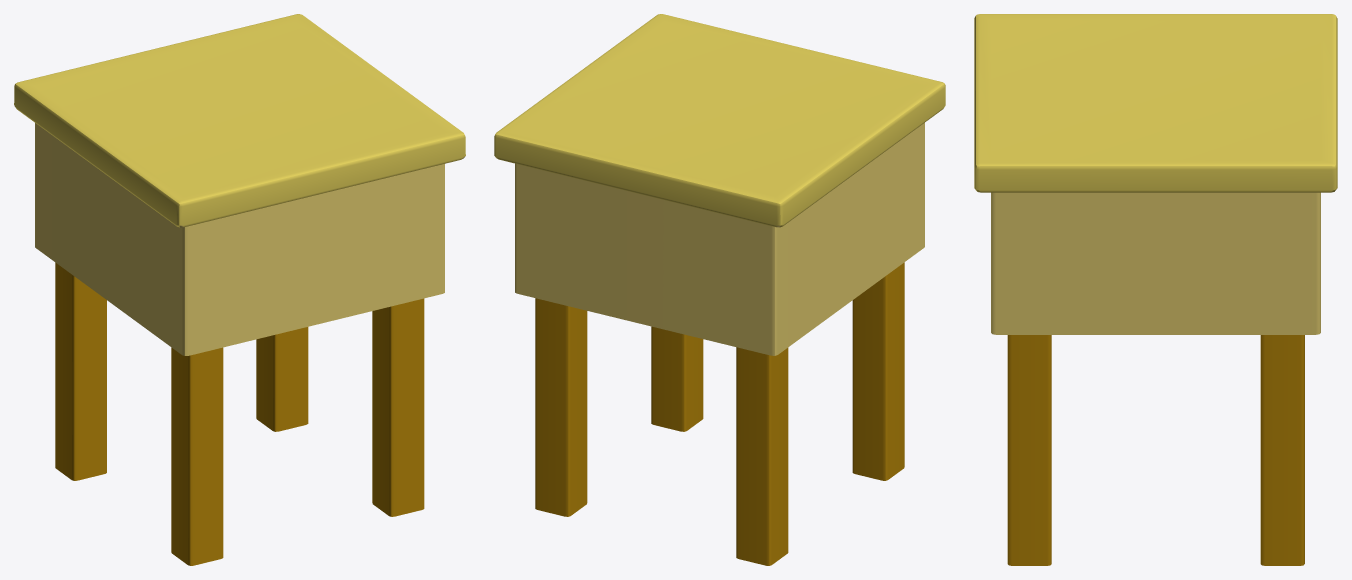
Rendered from 3dmodals16711897957237.fbx.
3 renders of one model, left to right at view 1: azimuth 30°, elevation 25°; view 2: azimuth 150°, elevation 25°; view 3: azimuth 270°, elevation 25°, orthographic. The views are drawn at different scales.
Visible parts, largest first — view 1: Main_Base, Piller1, Piller2, Piller4, Piller3; view 2: Main_Base, Piller4, Piller3, Piller1, Piller2; view 3: Main_Base, Piller2, Piller3.
Boxes of the visible parts, x1,y1,x2,y2 form: Main_Base: (14, 14, 465, 355); Piller1: (171, 347, 223, 565); Piller2: (372, 298, 424, 516); Piller4: (55, 262, 106, 480); Piller3: (256, 327, 308, 431); Main_Base: (494, 14, 945, 355); Piller4: (736, 347, 788, 565); Piller3: (535, 298, 587, 516); Piller1: (852, 262, 904, 480); Piller2: (651, 326, 703, 431); Main_Base: (974, 14, 1337, 334); Piller2: (1007, 335, 1051, 565); Piller3: (1260, 335, 1304, 565).
Bounding box in the file's own units: 110 × 138 × 110.
Materials: 1 (1 with a texture image).
